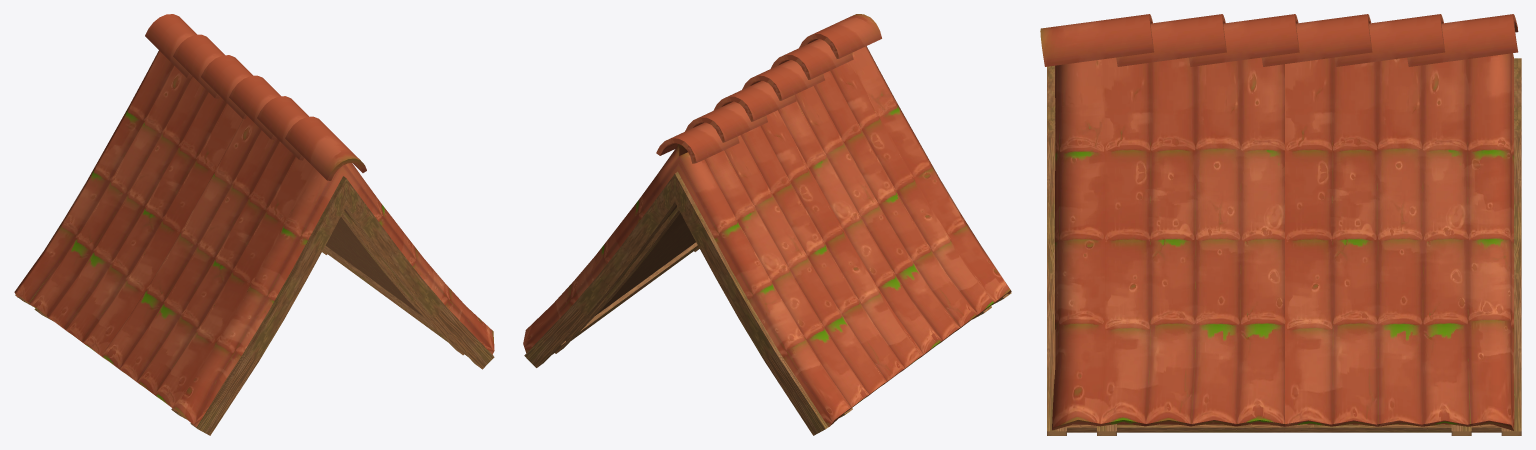
The model's file is Roof_RoundTiles_4x4.glb.
3 renders of one model, left to right at view 1: azimuth 30°, elevation 25°; view 2: azimuth 150°, elevation 25°; view 3: azimuth 270°, elevation 25°, orthographic. The views are drawn at different scales.
Visible parts, largest first — view 1: Roof_RoundTiles_4x4; view 2: Roof_RoundTiles_4x4; view 3: Roof_RoundTiles_4x4.
Boxes of the visible parts, <box> form: Roof_RoundTiles_4x4: <box>14,14,494,435</box>; Roof_RoundTiles_4x4: <box>523,14,1011,435</box>; Roof_RoundTiles_4x4: <box>1040,14,1521,435</box>.
Size of the model in its own units: 5.51 by 4.25 by 5.56.
Materials: 2 (2 with a texture image).
